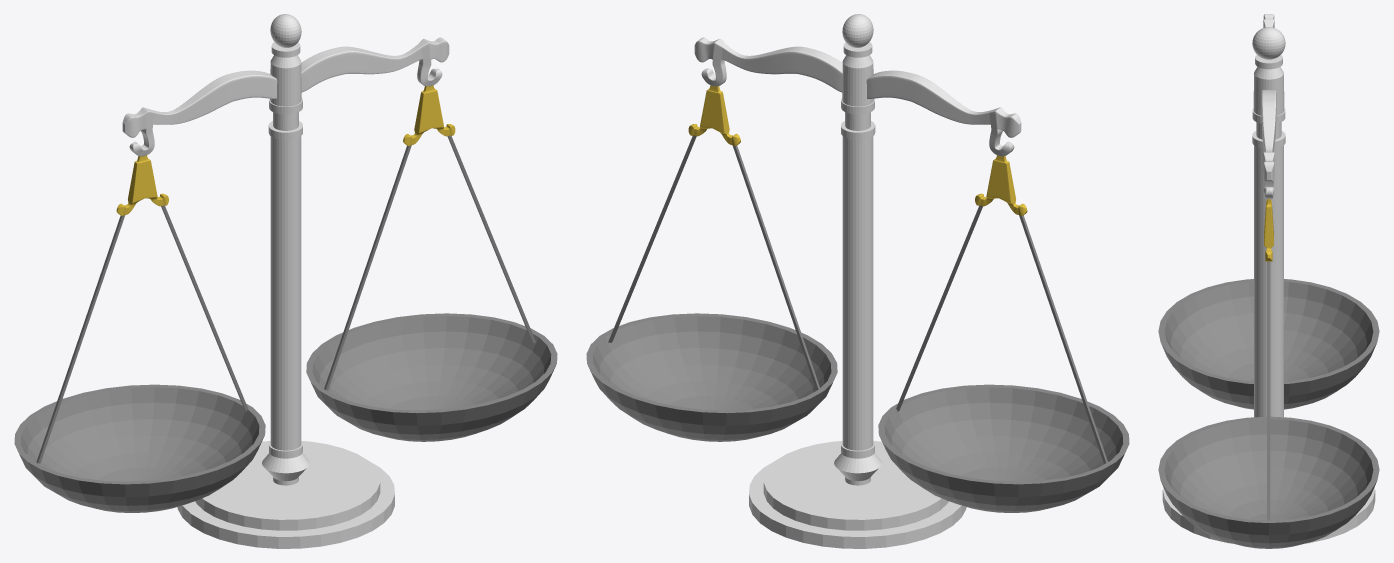
Rendered from balance_3.0.fbx.
The picture shows the model from 3 angles, left to right: view 1: azimuth 30°, elevation 25°; view 2: azimuth 150°, elevation 25°; view 3: azimuth 270°, elevation 25°; orthographic projection. The views are drawn at different scales.
Parts seen in each view (by area): view 1: Cylinder, Traveça.2, Traveça.1, Cube, Fio.1, Fio.2, Cylinder.001, Suporte.2, Suporte.1, Sphere; view 2: Cylinder, Traveça.2, Traveça.1, Cube, Fio.1, Fio.2, Cylinder.001, Suporte.2, Suporte.1, Sphere; view 3: Traveça.2, Traveça.1, Cylinder, Cube, Cylinder.001, Fio.2, Sphere, Suporte.2.
Boxes of the visible parts, left/top/right/bottom form: Cylinder: left=177, top=121, right=394, bottom=548; Traveça.2: left=306, top=313, right=557, bottom=441; Traveça.1: left=14, top=384, right=265, bottom=512; Cube: left=122, top=37, right=449, bottom=156; Fio.1: left=36, top=205, right=248, bottom=463; Fio.2: left=324, top=135, right=535, bottom=390; Cylinder.001: left=269, top=42, right=302, bottom=114; Suporte.2: left=403, top=85, right=455, bottom=146; Suporte.1: left=116, top=155, right=168, bottom=216; Sphere: left=270, top=14, right=301, bottom=47; Cylinder: left=749, top=121, right=966, bottom=548; Traveça.2: left=586, top=313, right=837, bottom=441; Traveça.1: left=878, top=384, right=1129, bottom=512; Cube: left=694, top=37, right=1021, bottom=156; Fio.1: left=896, top=205, right=1107, bottom=463; Fio.2: left=608, top=135, right=820, bottom=390; Cylinder.001: left=841, top=42, right=874, bottom=114; Suporte.2: left=688, top=85, right=740, bottom=146; Suporte.1: left=975, top=155, right=1027, bottom=216; Sphere: left=842, top=14, right=873, bottom=47; Traveça.2: left=1158, top=416, right=1379, bottom=548; Traveça.1: left=1158, top=279, right=1379, bottom=409; Cylinder: left=1162, top=131, right=1375, bottom=543; Cube: left=1261, top=14, right=1276, bottom=198; Cylinder.001: left=1252, top=55, right=1285, bottom=123; Fio.2: left=1267, top=261, right=1270, bottom=520; Sphere: left=1252, top=27, right=1285, bottom=59; Suporte.2: left=1264, top=199, right=1273, bottom=261.
Bounding box in the file's own units: 5.14 × 4.63 × 1.96.
